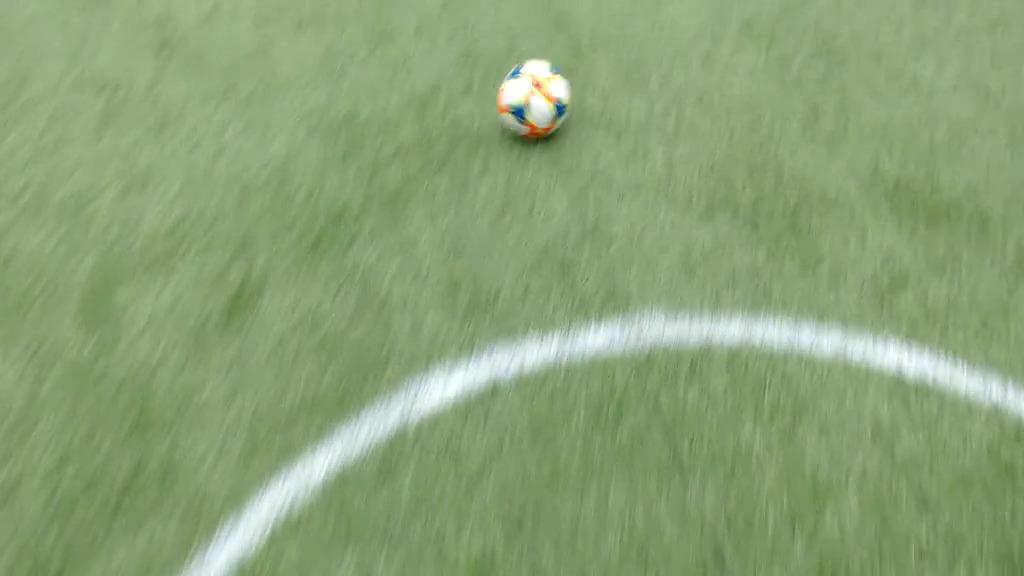ball: (497, 58, 569, 138)
